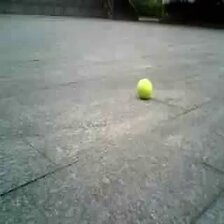tennis: (137, 80, 153, 97)
